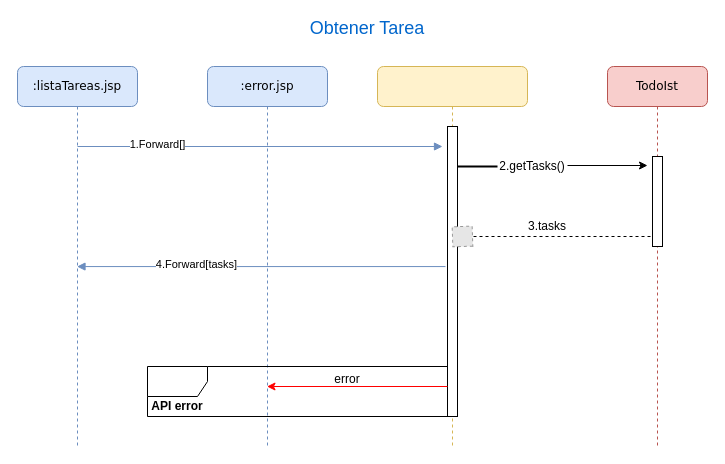
Image size: 725x464. Some labels were removed from this diagram. Grey dashed boxes stand in for pictures. Each missing label, with the box of its shape:
:GetTaskController.java: (376, 66, 528, 446)
Break: (146, 366, 448, 416)
